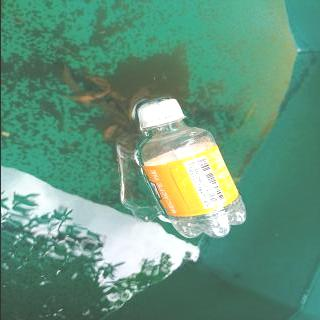bottle: (134, 95, 248, 238)
